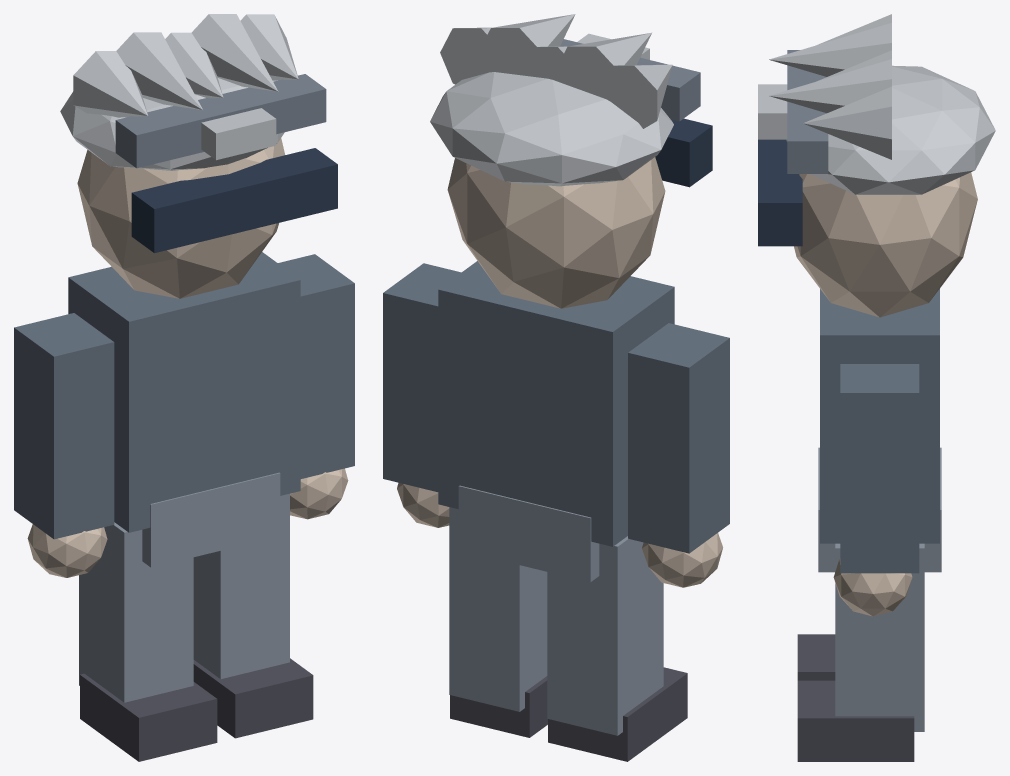
The model's file is kakashi.glb.
3 views of the same model, side by side, from view 1: azimuth 30°, elevation 25°; view 2: azimuth 150°, elevation 25°; view 3: azimuth 270°, elevation 25° (orthographic). The views are drawn at different scales.
Visible parts, largest first — view 1: part_000, part_002, part_004, part_010, part_019, part_008, part_006, part_001, part_020, part_005, part_009, part_013 (+8 smaller); view 2: part_000, part_010, part_002, part_013, part_004, part_008, part_006, part_001, part_005, part_015, part_017, part_014 (+7 smaller); view 3: part_010, part_006, part_000, part_013, part_008, part_009, part_019, part_018, part_015, part_017, part_020, part_007 (+3 smaller).
Part boxes in pixels (<box>): part_000: <box>68,252,300,532</box>; part_002: <box>14,313,114,539</box>; part_004: <box>79,522,193,702</box>; part_010: <box>77,138,284,298</box>; part_019: <box>131,148,337,253</box>; part_008: <box>193,493,289,679</box>; part_006: <box>278,254,354,478</box>; part_001: <box>142,472,280,567</box>; part_020: <box>115,74,326,168</box>; part_005: <box>80,673,217,761</box>; part_009: <box>193,658,313,738</box>; part_013: <box>60,78,284,170</box>; part_000: <box>438,261,674,546</box>; part_010: <box>447,157,665,308</box>; part_002: <box>628,323,729,553</box>; part_013: <box>430,72,673,186</box>; part_004: <box>547,536,663,735</box>; part_008: <box>449,507,547,711</box>; part_006: <box>383,263,461,492</box>; part_001: <box>458,485,599,582</box>; part_005: <box>548,667,687,761</box>; part_015: <box>555,32,651,101</box>; part_017: <box>478,14,575,77</box>; part_014: <box>593,64,672,128</box>; part_010: <box>794,172,977,317</box>; part_006: <box>840,364,919,573</box>; part_000: <box>820,289,939,543</box>; part_013: <box>786,65,995,194</box>; part_008: <box>835,543,924,731</box>; part_009: <box>797,680,914,761</box>; part_019: <box>758,139,802,246</box>; part_018: <box>803,86,891,159</box>; part_015: <box>769,23,891,76</box>; part_017: <box>769,59,891,113</box>; part_020: <box>787,50,828,173</box>; part_007: <box>833,558,912,616</box>.
Bounding box in the file's own units: 1.03 × 2.17 × 0.6928.
